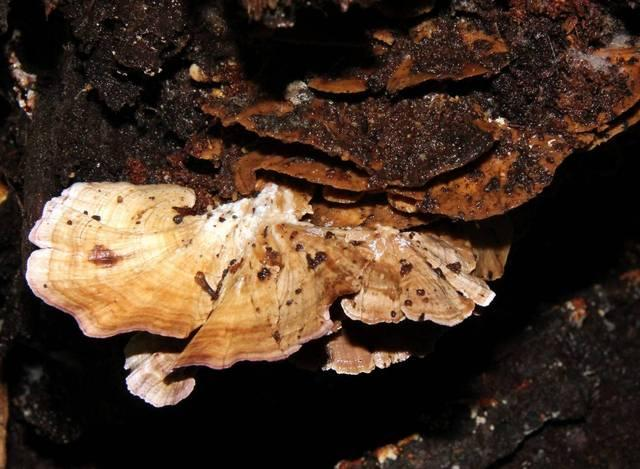poisonous_mushroom: (23, 177, 508, 408)
